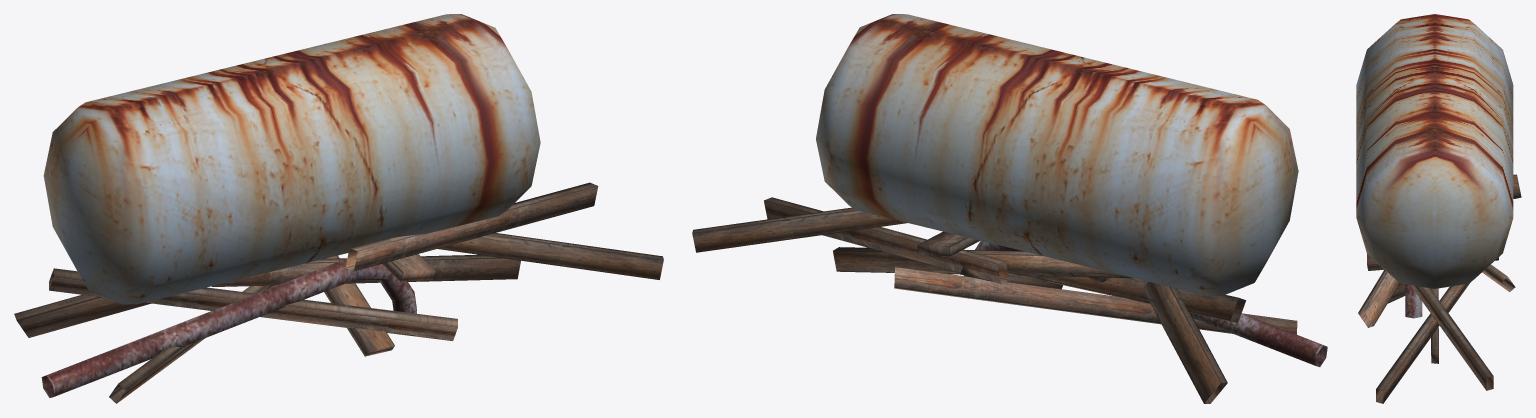
The model's file is tankD.fbx.
3 views of the same model, side by side, from view 1: azimuth 30°, elevation 25°; view 2: azimuth 150°, elevation 25°; view 3: azimuth 270°, elevation 25° (orthographic). The views are drawn at different scales.
Parts seen in each view (by area): view 1: Tank; view 2: Tank; view 3: Tank.
Boxes of the visible parts, x1,y1,x2,y2 form: Tank: (14, 14, 663, 403); Tank: (692, 14, 1327, 403); Tank: (1356, 14, 1521, 403).
Bounding box in the file's own units: 664 × 289 × 210.
1 material, 1 textured.
